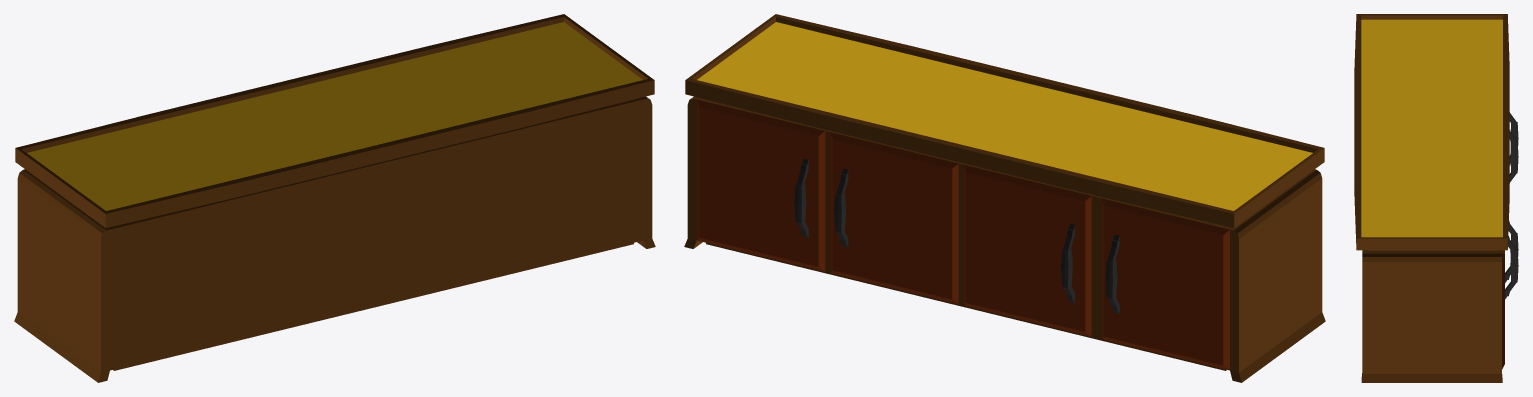
The model's file is Cabinet 1.fbx.
The picture shows the model from 3 angles, left to right: view 1: azimuth 30°, elevation 25°; view 2: azimuth 150°, elevation 25°; view 3: azimuth 270°, elevation 25°; orthographic projection. The views are drawn at different scales.
Parts seen in each view (by area): view 1: Node 0; view 2: Node 0, Node 2, Node 1, Node 4, Node 3; view 3: Node 0, Node 2, Node 1, Node 3, Node 4.
Boxes of the visible parts, box(x1,y1,x2,y2) form: Node 0: box(14, 14, 655, 382); Node 0: box(684, 14, 1325, 382); Node 2: box(697, 99, 825, 271); Node 1: box(963, 164, 1091, 336); Node 4: box(1101, 198, 1229, 370); Node 3: box(830, 132, 958, 304); Node 0: box(1354, 14, 1509, 382); Node 2: box(1502, 236, 1518, 369); Node 1: box(1509, 130, 1518, 183); Node 3: box(1505, 221, 1518, 282); Node 4: box(1509, 112, 1518, 164).
Bounding box in the file's own units: 0.469 × 0.4501 × 1.54.
